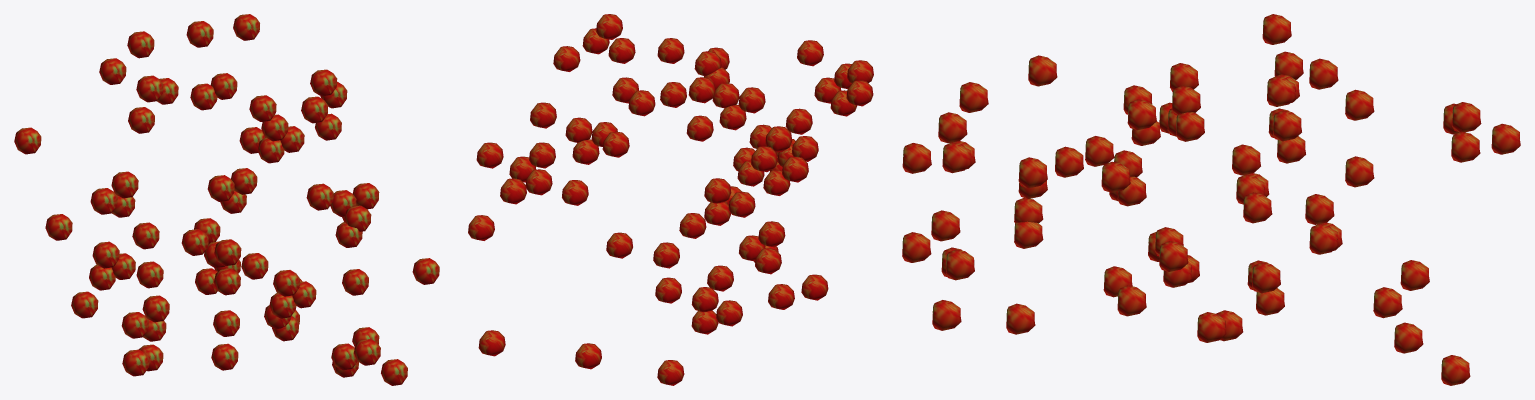
Rendered from apple_tree_apples.obj.
The picture shows the model from 3 angles, left to right: view 1: azimuth 30°, elevation 25°; view 2: azimuth 150°, elevation 25°; view 3: azimuth 270°, elevation 25°; orthographic projection. The views are drawn at different scales.
Parts seen in each view (by area): view 1: Apple_lod1_0; view 2: Apple_lod1_0; view 3: Apple_lod1_0.
Boxes of the visible parts, x1,y1,x2,y2 form: Apple_lod1_0: (14,14,439,385); Apple_lod1_0: (468,14,873,385); Apple_lod1_0: (902,14,1520,385).
Bounding box in the file's own units: 0.8386 × 0.9029 × 1.53.
1 material, 1 textured.
